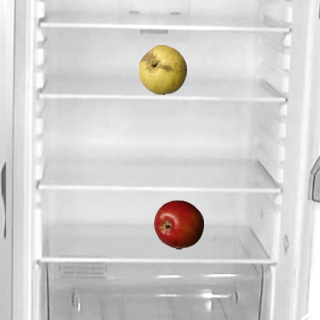Apple Braeburn: (153, 199, 203, 249)
Apple Golden 1: (137, 44, 187, 94)
